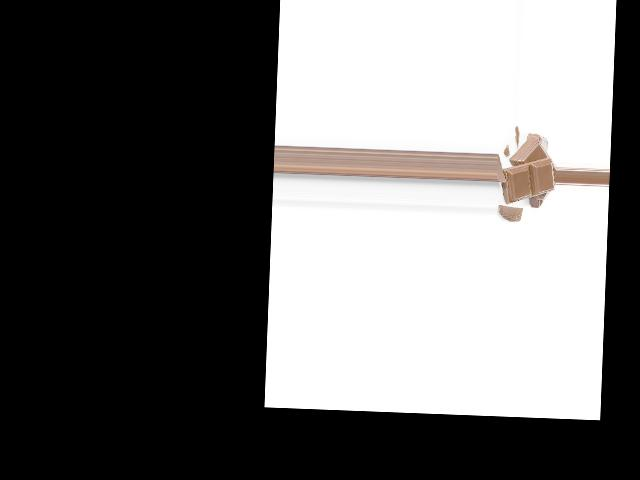chocolate: (502, 155, 553, 203)
